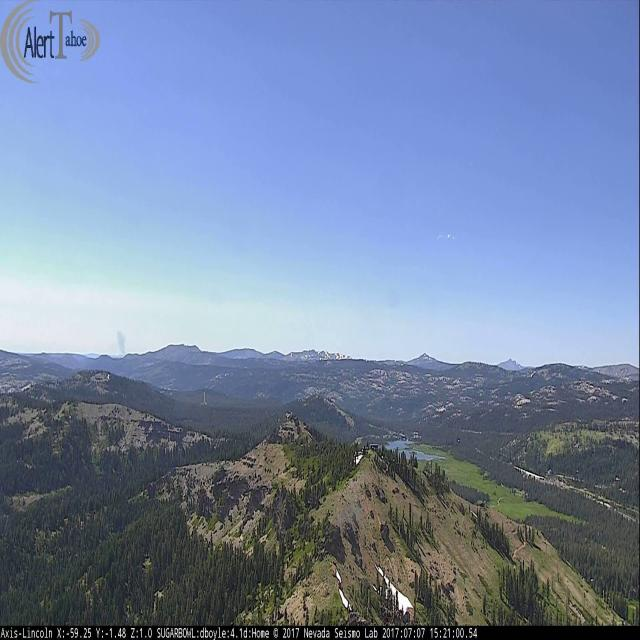smoke: (112, 328, 129, 358)
